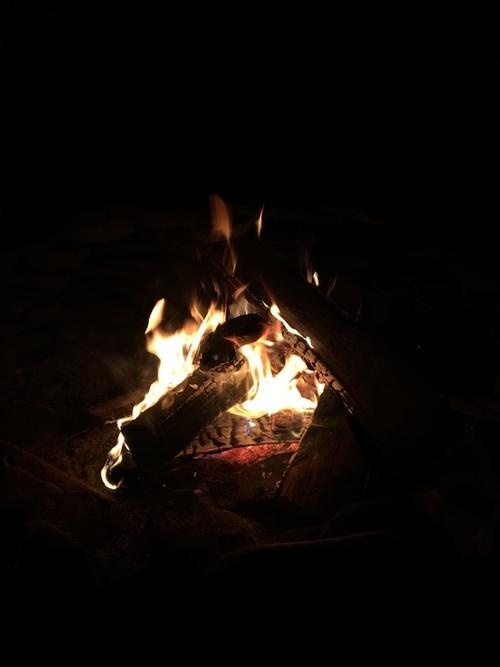fire: (127, 191, 334, 428), (100, 425, 130, 490)
